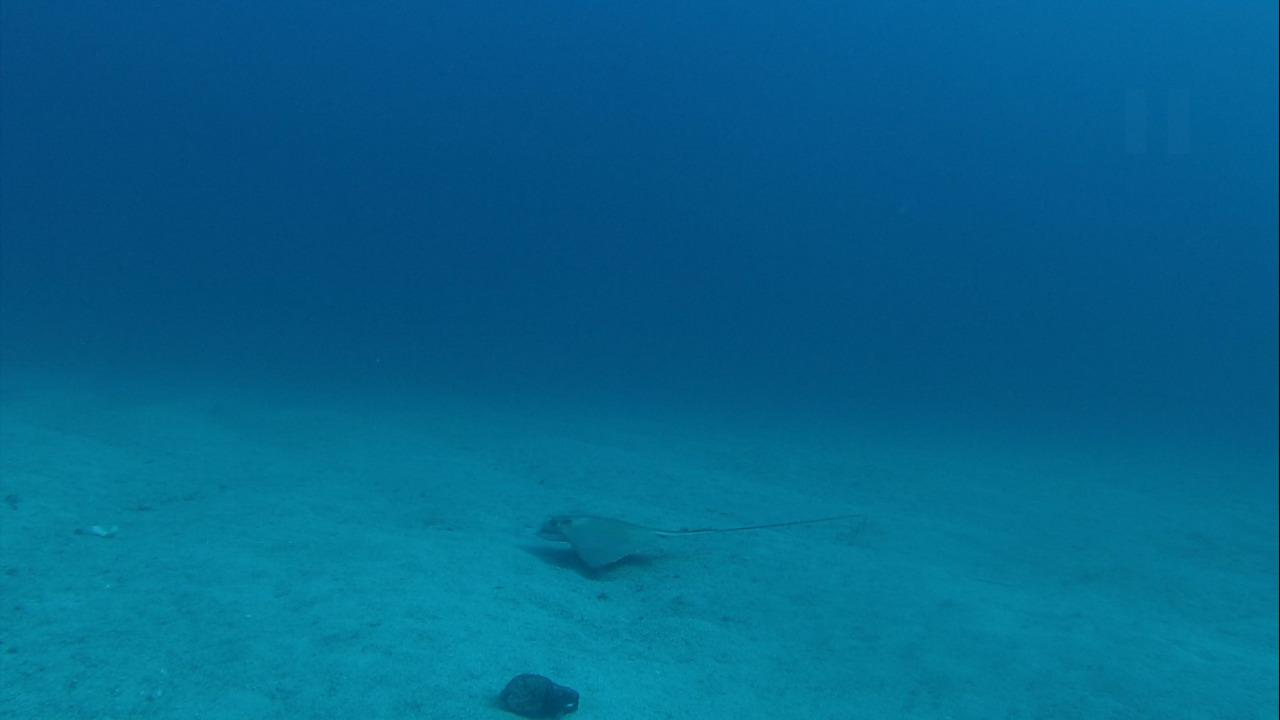myliobatis: (520, 502, 853, 575)
